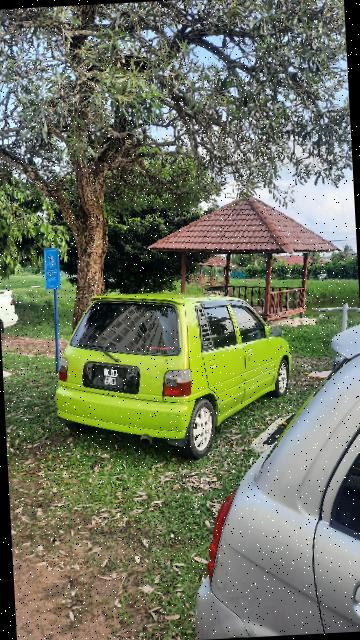License_Plate: (87, 354, 137, 394)
car: (49, 283, 296, 459)
